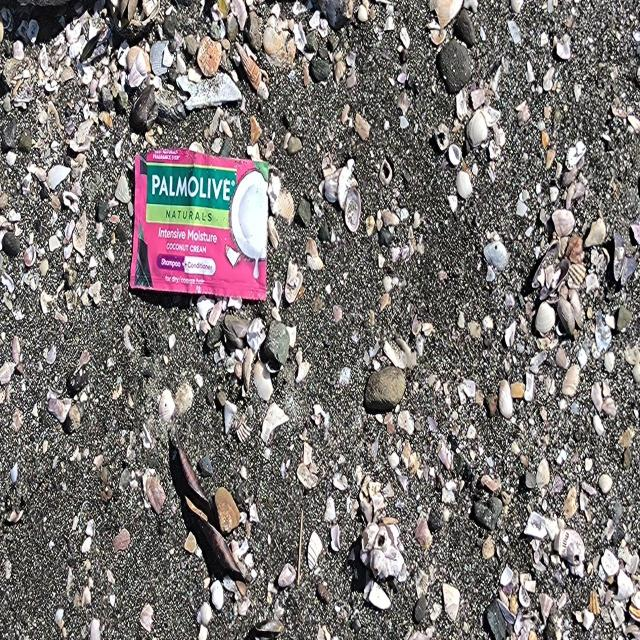plastic_waste: (129, 149, 269, 301)
